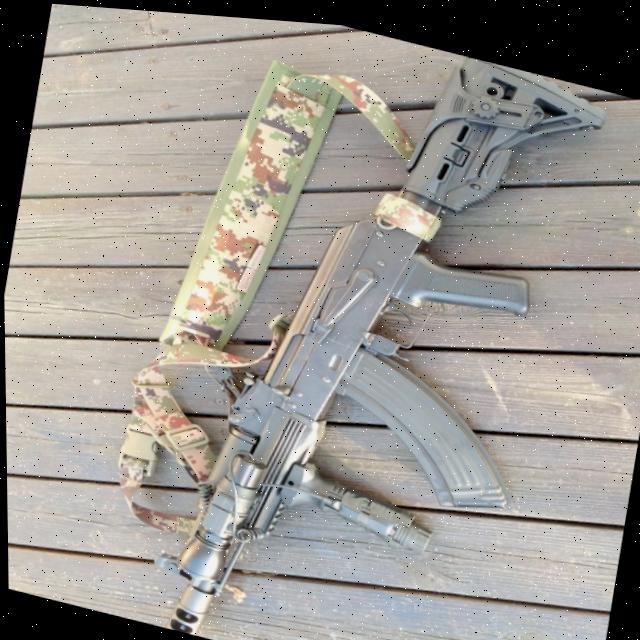firearm: (136, 8, 615, 640)
